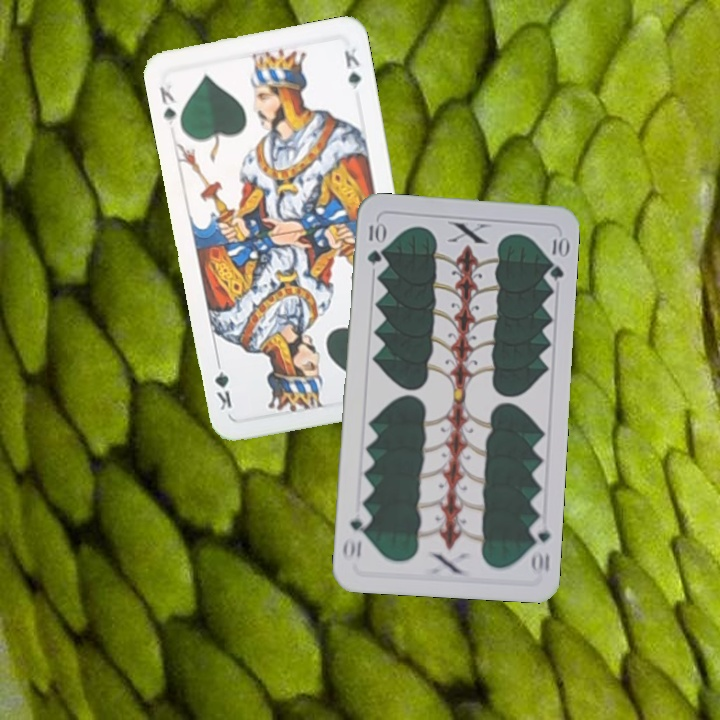G10: (526, 517, 553, 577), (363, 218, 385, 267)
GK: (155, 74, 180, 128)
